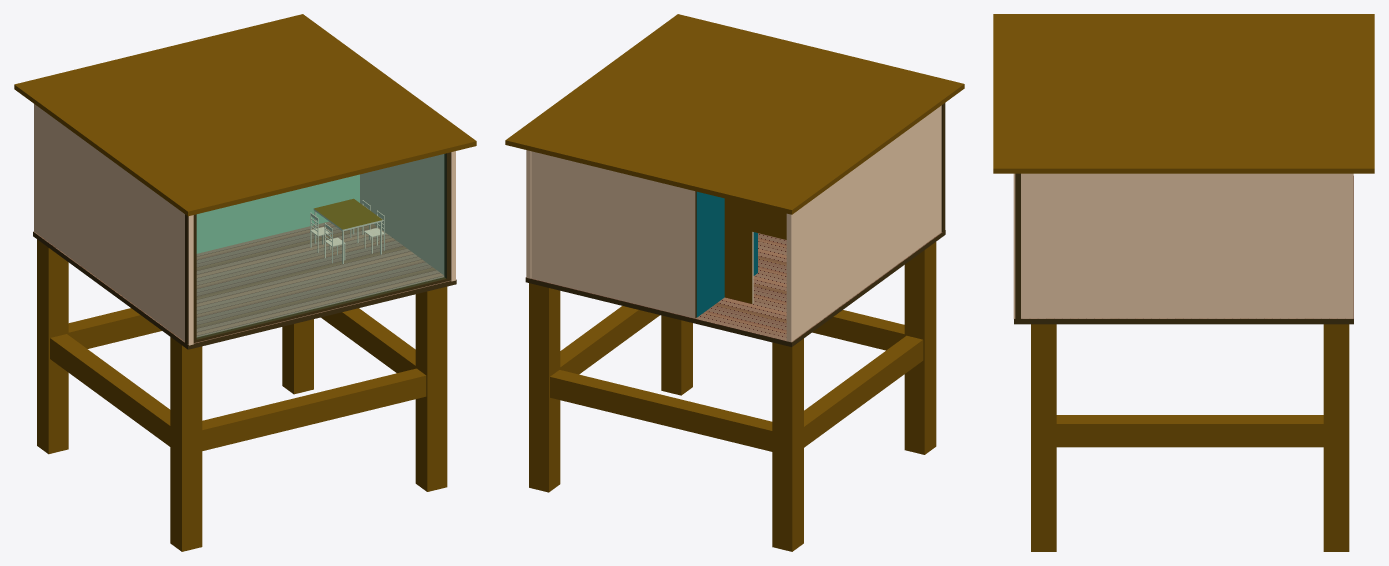
The model's file is Command_House.fbx.
3 views of the same model, side by side, from view 1: azimuth 30°, elevation 25°; view 2: azimuth 150°, elevation 25°; view 3: azimuth 270°, elevation 25° (orthographic). The views are drawn at different scales.
Visible parts, largest first — view 1: New_Command_Center, Support_Beams, Table; view 2: New_Command_Center, Support_Beams; view 3: New_Command_Center, Support_Beams.
Boxes of the visible parts, bbox=[...] form: New_Command_Center: bbox=[14, 14, 476, 349]; Support_Beams: bbox=[37, 239, 447, 551]; Table: bbox=[313, 198, 382, 263]; New_Command_Center: bbox=[505, 14, 964, 346]; Support_Beams: bbox=[529, 242, 936, 551]; New_Command_Center: bbox=[993, 14, 1374, 324]; Support_Beams: bbox=[1031, 324, 1349, 551].
Bounding box in the file's own units: 8.61 × 10.13 × 8.97.
Materials: 13 (11 with a texture image).
